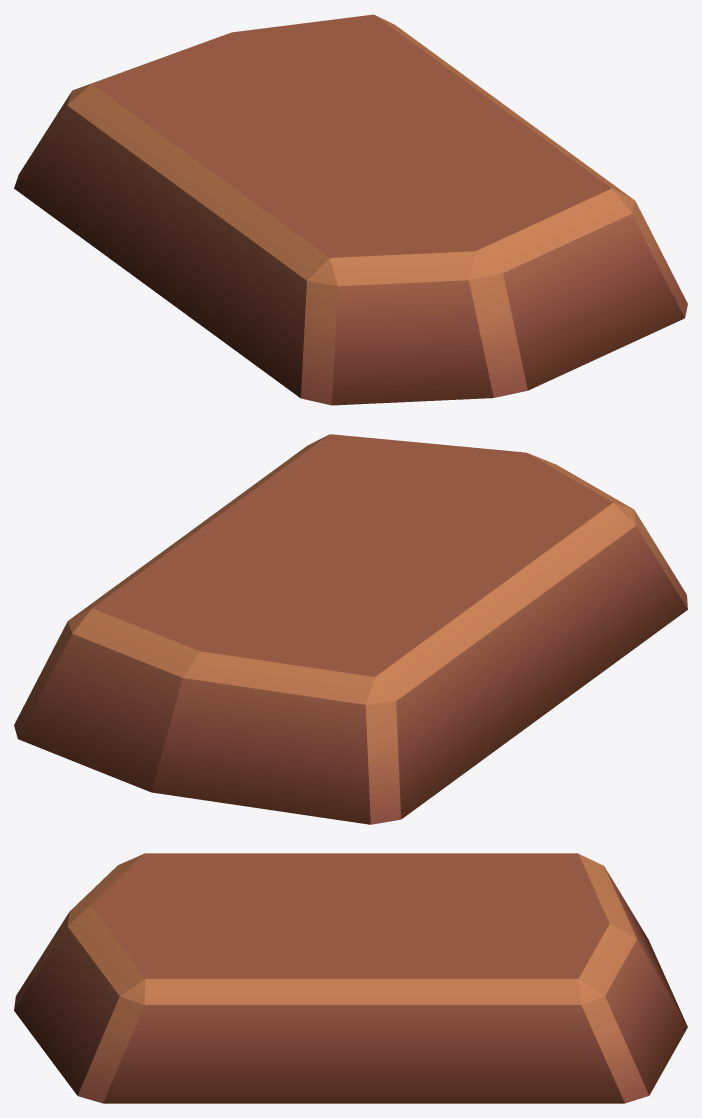
Rendered from Roadstones-2-4.fbx.
3 renders of one model, top to bottom at view 1: azimuth 30°, elevation 25°; view 2: azimuth 150°, elevation 25°; view 3: azimuth 270°, elevation 25°, orthographic. The views are drawn at different scales.
Visible parts, largest first — view 1: Roadstones-2-4; view 2: Roadstones-2-4; view 3: Roadstones-2-4.
Boxes of the visible parts, x1,y1,x2,y2 form: Roadstones-2-4: (14,14,687,405); Roadstones-2-4: (14,434,687,824); Roadstones-2-4: (14,853,687,1103).
Size of the model in its own units: 65.7 by 18.02 by 109.
